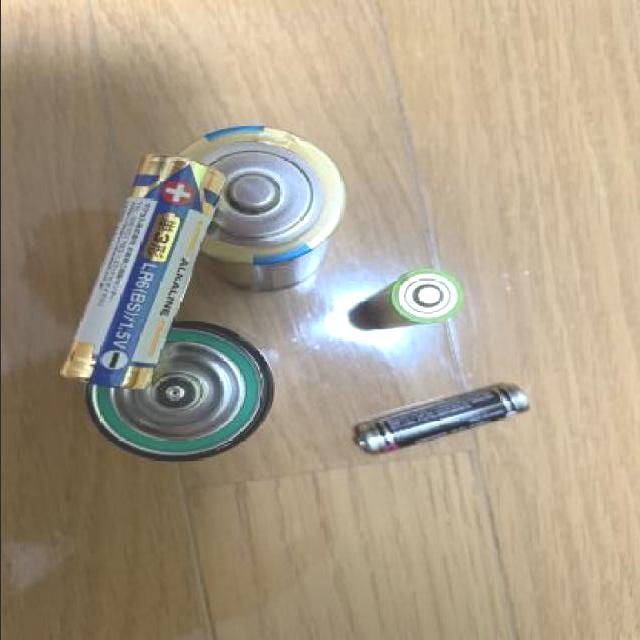AA: (63, 152, 229, 394), (350, 270, 464, 336)
AAA: (352, 382, 534, 461)
